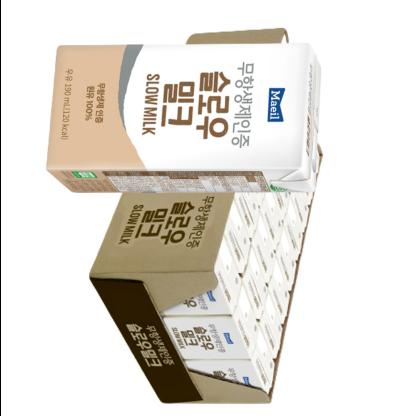tetra: (35, 34, 334, 210)
